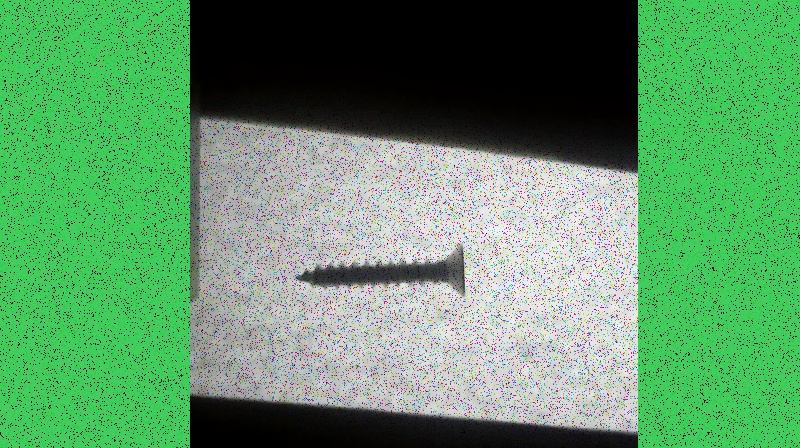S001: (292, 242, 469, 296)
